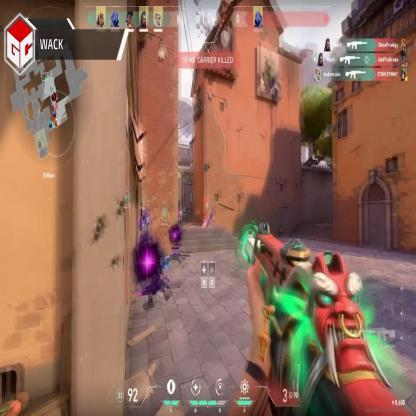enemy: (138, 208, 148, 259), (177, 204, 183, 225)
enemy_head: (142, 208, 146, 218), (178, 204, 182, 210)
